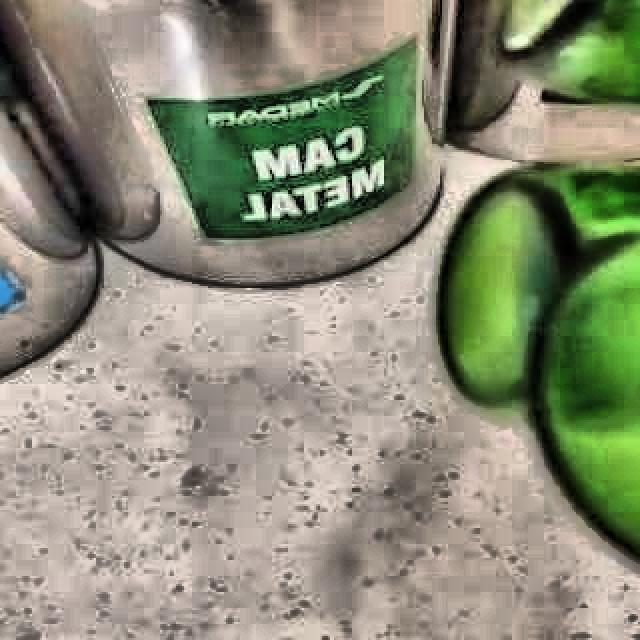glass: (440, 167, 640, 558)
